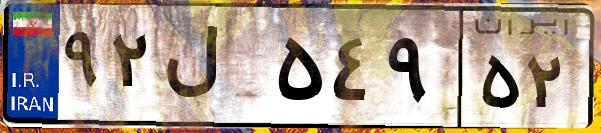2: (525, 38, 570, 115), (110, 28, 158, 98)
4: (330, 28, 385, 110)
5: (270, 28, 330, 110), (475, 38, 525, 113)
9: (385, 28, 445, 110), (57, 26, 110, 100)
ل: (158, 20, 270, 120)
